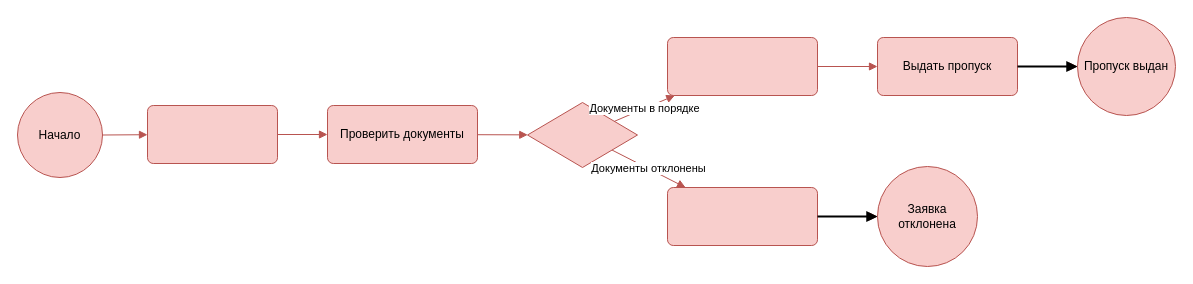
This 1193x284 diagram has some shape labels left out. Each missing label, with the centre of its shape:
"Заполнить заявку" belongs at [212,134].
"Зарегистрировать заявку" belongs at [742,66].
"Уведомить об отказе" belongs at [742,216].
